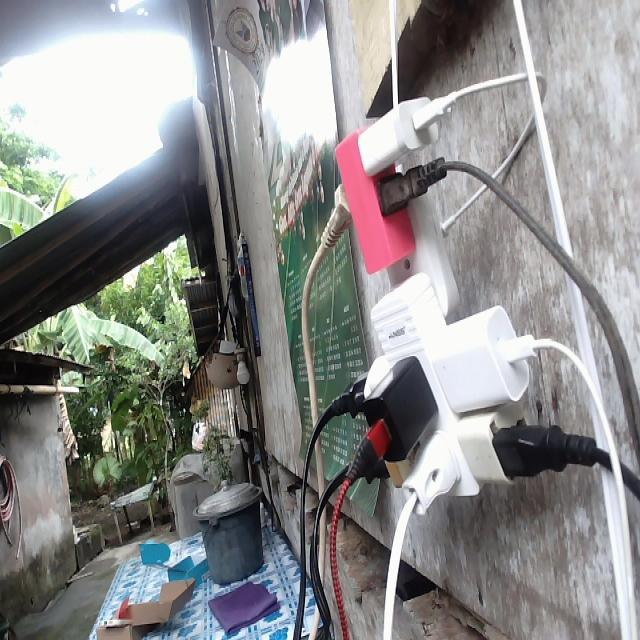-: (320, 84, 598, 516)
